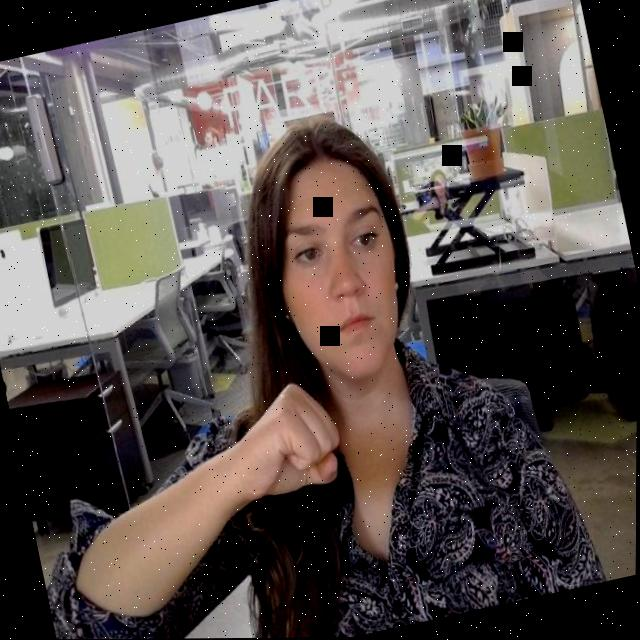Rock: (210, 359, 363, 519)
